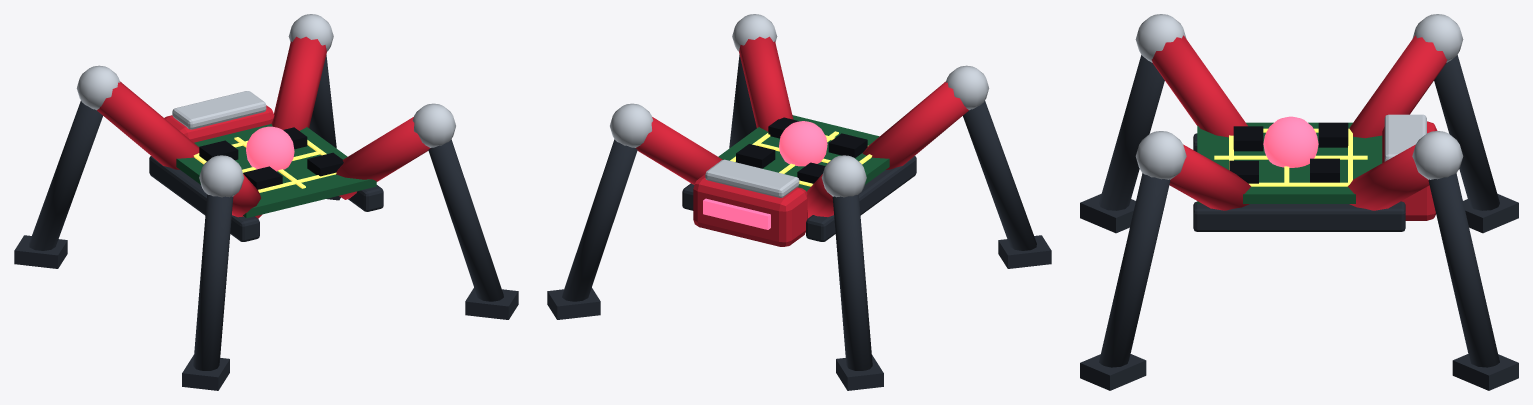
File: Crawler.fbx
The picture shows the model from 3 angles, left to right: view 1: azimuth 30°, elevation 25°; view 2: azimuth 150°, elevation 25°; view 3: azimuth 270°, elevation 25°; orthographic projection. The views are drawn at different scales.
Visible parts, largest first — view 1: Pcb_Board0, Metal_Shin2, Metal_Shin1, Metal_Shin3, Shell_Thigh3, Shell_Thigh0, Shell_Thigh1, Silver_Brow0, Metal_Rail0, Glow_Core0, Silver_Knee2, Silver_Knee1 (+12 smaller); view 2: Metal_Shin3, Shell_Head0, Metal_Shin0, Metal_Shin2, Shell_Thigh2, Shell_Thigh1, Shell_Thigh0, Pcb_Board0, Metal_Rail0, Silver_Brow0, Glow_Core0, Silver_Knee3 (+11 smaller); view 3: Metal_Shin0, Metal_Shin1, Pcb_Board0, Metal_Rail1, Shell_Thigh2, Metal_Shin2, Metal_Shin3, Shell_Thigh3, Shell_Thigh0, Shell_Thigh1, Glow_Core0, Silver_Knee0 (+15 smaller).
Boxes of the visible parts, x1,y1,x2,y2 form: Pcb_Board0: (176,123,376,218); Metal_Shin2: (193,194,233,370); Metal_Shin1: (428,139,503,301); Metal_Shin3: (29,101,102,250); Shell_Thigh3: (97,81,199,169); Shell_Thigh0: (271,36,326,130); Shell_Thigh1: (336,117,430,199); Silver_Brow0: (172,91,266,129); Metal_Rail0: (149,156,259,241); Glow_Core0: (246,126,294,171); Silver_Knee2: (199,155,244,197); Silver_Knee1: (412,103,455,147); Metal_Shin3: (832,194,872,370); Shell_Head0: (693,174,807,246); Metal_Shin0: (562,139,637,301); Metal_Shin2: (963,101,1036,250); Shell_Thigh2: (862,81,968,169); Shell_Thigh1: (739,36,793,131); Shell_Thigh0: (635,117,722,184); Pcb_Board0: (718,115,889,191); Metal_Rail0: (806,156,916,241); Silver_Brow0: (705,159,799,197); Glow_Core0: (779,121,827,166); Silver_Knee3: (821,155,866,197); Metal_Shin0: (1428,173,1499,367); Metal_Shin1: (1099,173,1170,367); Pcb_Board0: (1197,122,1382,203); Metal_Rail1: (1193,201,1405,231); Shell_Thigh2: (1151,35,1247,137); Metal_Shin2: (1099,55,1164,210); Metal_Shin3: (1434,55,1499,210); Shell_Thigh3: (1349,35,1447,138); Shell_Thigh0: (1348,144,1429,210); Shell_Thigh1: (1169,144,1250,210); Glow_Core0: (1263,116,1318,167); Silver_Knee0: (1412,131,1463,179).
Size of the model in its own units: 1.03 by 1.03 by 0.58.
